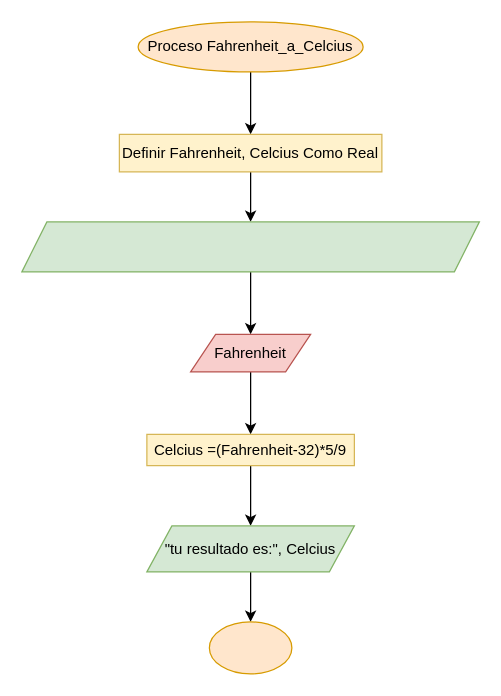
Some shapes in this 501 by 696 pixel diagram are drawn without their labels. The box of each missing label's shape, as (x1, y1, x2, y2) in pixels:
"Hola, dame un valor de Fahrenheit para convertirlo a Celcius": (21, 221, 479, 272)
FinProceso: (208, 621, 292, 674)
